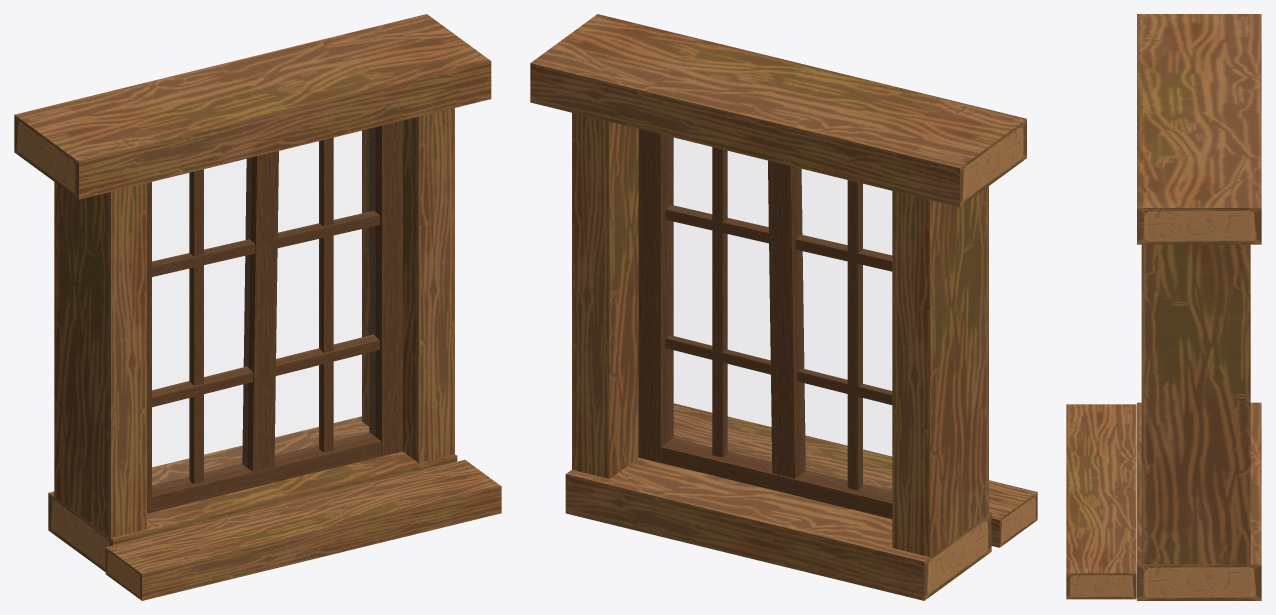
File: Window_Wide_Flat1.obj
3 renders of one model, left to right at view 1: azimuth 30°, elevation 25°; view 2: azimuth 150°, elevation 25°; view 3: azimuth 270°, elevation 25°, orthographic. The views are drawn at different scales.
Visible parts, largest first — view 1: Window_Wide_Flat1; view 2: Window_Wide_Flat1; view 3: Window_Wide_Flat1.
Part boxes in pixels (x1=…): Window_Wide_Flat1: x1=14, y1=14, x2=501, y2=600; Window_Wide_Flat1: x1=530, y1=14, x2=1037, y2=600; Window_Wide_Flat1: x1=1066, y1=14, x2=1261, y2=600.
Size of the model in its own units: 1.61 by 1.58 by 0.6834.
